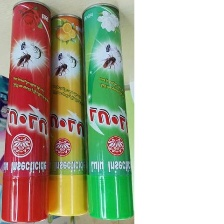insecticide: (80, 2, 134, 224), (1, 2, 54, 224), (47, 10, 91, 224)
